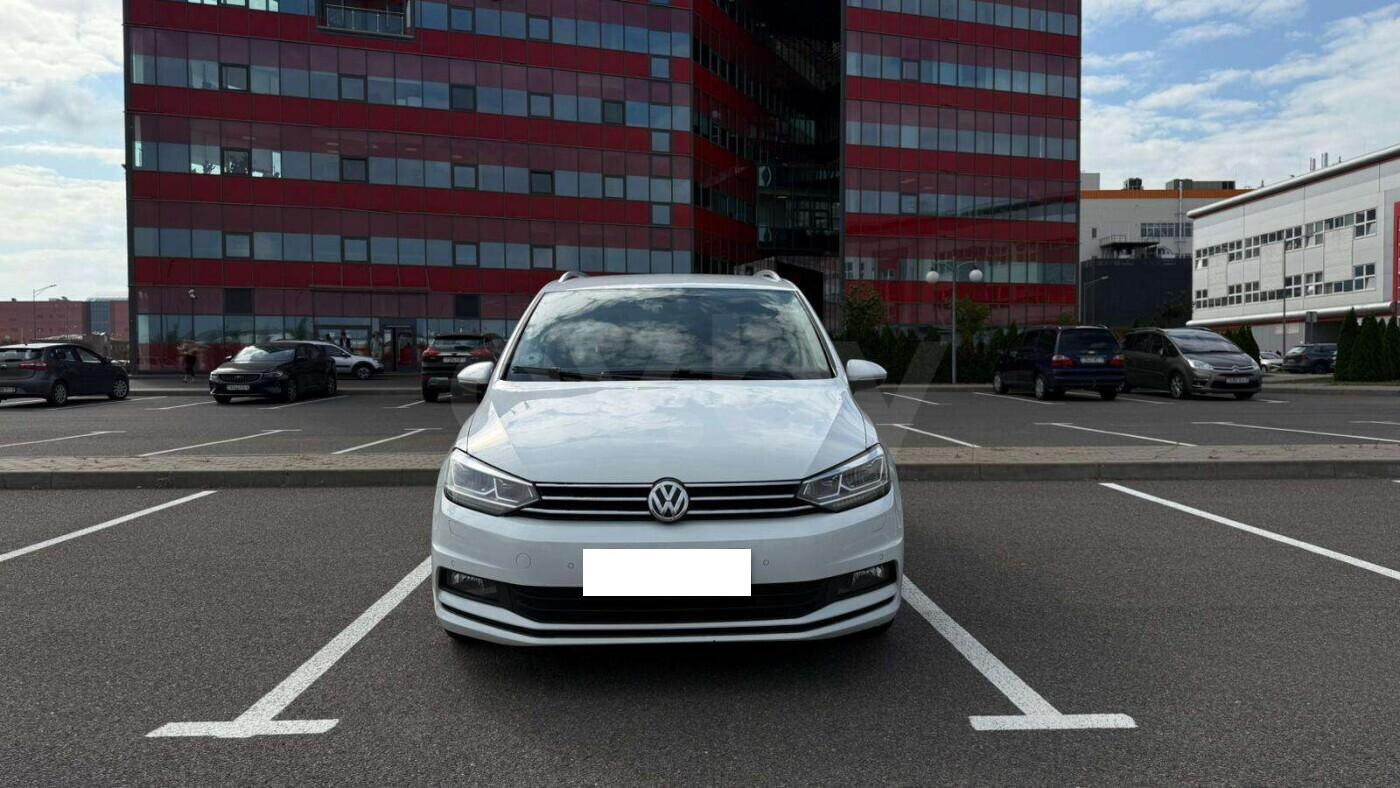Touran_2015: (425, 273, 913, 661)
